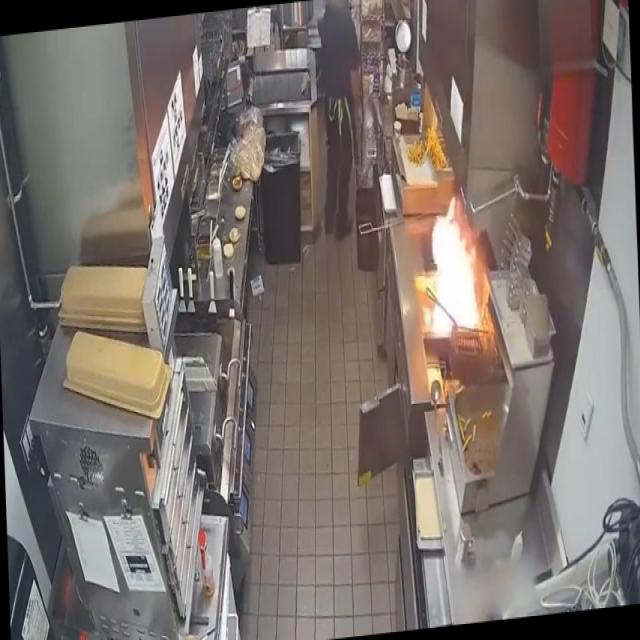fire: (408, 180, 499, 392)
